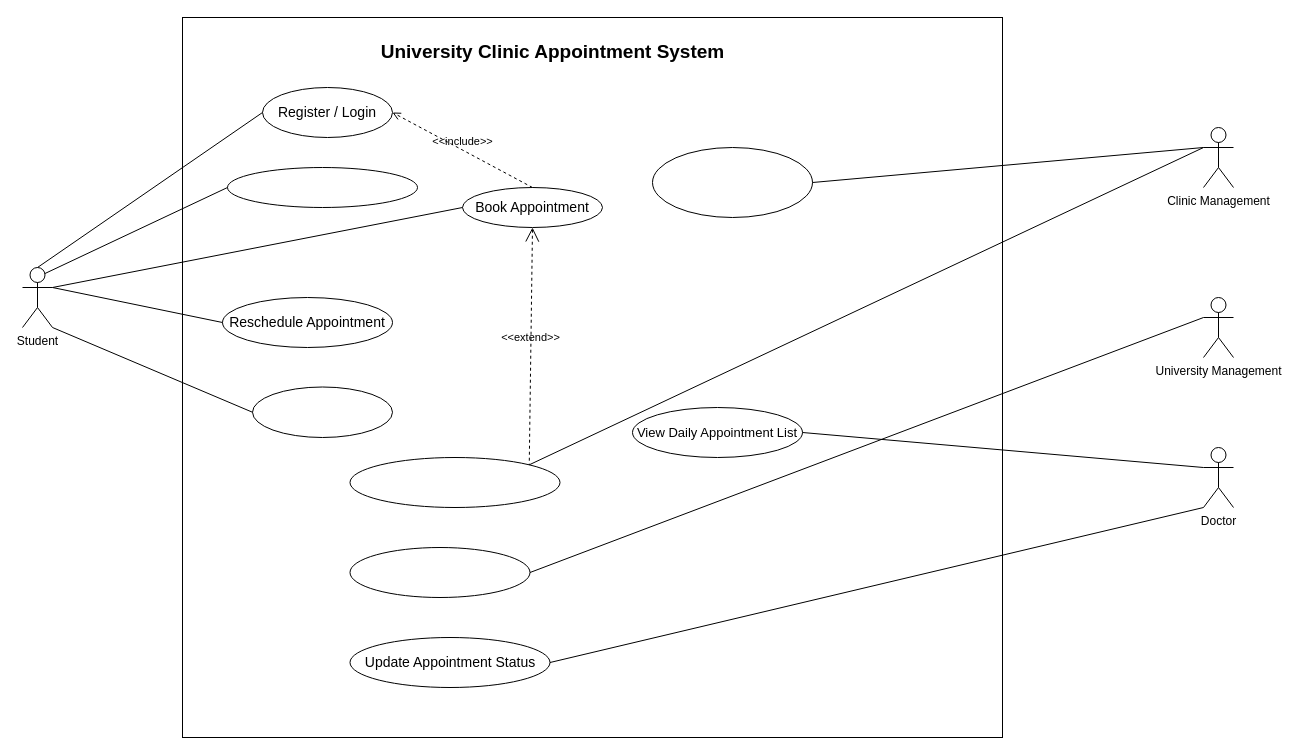
The diagram is 1299 pixels wide and 755 high, and some of its shapes have lost their labels. Each missing label, with the centre of its shape:
Cancel Appointment: the point at 322,412
Manage Doctor Schedules: the point at 732,182
Receive Appointment Reminders: the point at 454,482
View Appointment Statistics: the point at 439,572
View Available Time Slots: the point at 322,187
